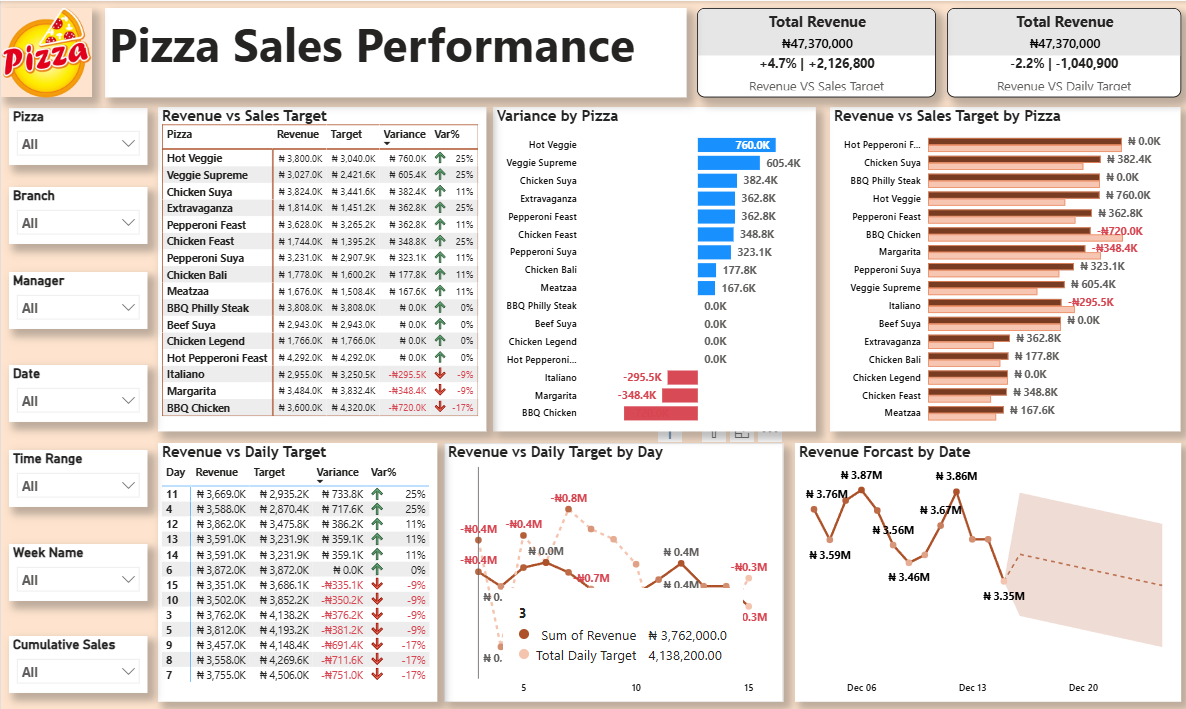

Layout of this report page (visuals, bound fields, positions):
{"tool":"powerbi","page":{"name":"Page 2","canvas":[1500,900],"ordinal":1},"visuals":[{"type":"lineChart","title":"Revenue vs Daily Target by Day","fields":{"Category":["Daily Target.Day.Variation.Date Hierarchy.Day"],"Y":["Sum(Sales Data.Revenue)","Daily Target.Total Daily Target"]},"box":[559.9,558.6,428.6,327],"z":0},{"type":"clusteredBarChart","title":"Revenue vs Sales Target by Pizza","fields":{"Y":["Sum(Sales Data.Revenue)","Sum(Sales Target.Sales Target)"],"Category":["Sales Target.Pizza"]},"box":[1047.5,134.5,443.4,410.3],"z":1000},{"type":"clusteredBarChart","fields":{"Category":["Sales Target.Pizza"],"Y":["Sales Data.Variance"]},"box":[622.3,134.5,408.1,410.3],"z":2000},{"type":"pivotTable","title":"Revenue vs Sales Target","fields":{"Values":["Sum(Sales Data.Revenue)","Sum(Sales Target.Sales Target)","Sales Data.Variance","Sales Target.Variance %"],"Rows":["Sales Target.Pizza"]},"box":[198.3,134.5,414.9,410.3],"z":3000},{"type":"pivotTable","title":"Revenue vs Daily Target","fields":{"Values":["Sum(Sales Data.Revenue)","Sum(Daily Target.Target)","Daily Target.Variance of Daily Target","Daily Target.Variance % of Daily Target"],"Rows":["Daily Target.Day.Variation.Date Hierarchy.Day"]},"box":[198.2,558.6,353,327],"z":4000},{"type":"lineChart","title":"Revenue Forcast by Date","fields":{"Category":["Sales Data.Date"],"Y":["Sum(Sales Data.Revenue)"]},"box":[1003.3,558.6,488,327],"z":5000},{"type":"card","title":"Total Revenue","fields":{"Values":["Sales Data.KPI Total Revenue VS Target"]},"box":[1195.3,8.7,296,112.7],"z":6000},{"type":"card","title":"Total Revenue","fields":{"Values":["Daily Target.KPI Total Revenue VS Sales Target"]},"box":[879.4,8.7,302.2,112.7],"z":7000},{"type":"slicer","title":"Pizza","fields":{"Values":["Sales Target.Pizza"]},"box":[9.9,135,174.6,71.8],"z":8000},{"type":"slicer","title":"Branch","fields":{"Values":["Branch Data.Branch"]},"box":[9.9,235.3,174.6,71.8],"z":9000},{"type":"slicer","title":"Manager","fields":{"Values":["Branch Data.Manager"]},"box":[9.9,341.9,174.6,71.8],"z":10000},{"type":"slicer","title":"Date","fields":{"Values":["Sales Data.Date"]},"box":[9.9,459.5,174.6,71.8],"z":11000},{"type":"textbox","box":[131.3,8.7,734.5,112.7],"z":12000},{"type":"slicer","title":"Time Range","fields":{"Values":["Sales Data.Time Range"]},"box":[9.9,567.3,174.6,71.8],"z":13000},{"type":"slicer","title":"Week Name","fields":{"Values":["Sales Data.Week Name"]},"box":[9.9,686.2,174.6,71.8],"z":14000},{"type":"slicer","title":"Cumulative Sales","fields":{"Values":["Sales Data.Cumulative Sales"]},"box":[9.9,802.6,174.6,71.8],"z":15000},{"type":"image","box":[0,8.7,115.2,112.7],"z":16000}]}

Visuals, with their boxes in screenshot pixels (x1, y1, x2, y2), scaled from the page's 1500x900 canvas onto the 1186x709 screenshot:
"Revenue vs Daily Target by Day" lineChart: <bbox>443, 440, 782, 698</bbox>
"Revenue vs Sales Target by Pizza" clusteredBarChart: <bbox>828, 106, 1179, 429</bbox>
clusteredBarChart - Sales Target.Pizza x Sales Data.Variance: <bbox>492, 106, 815, 429</bbox>
"Revenue vs Sales Target" pivotTable: <bbox>157, 106, 485, 429</bbox>
"Revenue vs Daily Target" pivotTable: <bbox>157, 440, 436, 698</bbox>
"Revenue Forcast by Date" lineChart: <bbox>793, 440, 1179, 698</bbox>
"Total Revenue" card: <bbox>945, 7, 1179, 96</bbox>
"Total Revenue" card: <bbox>695, 7, 934, 96</bbox>
"Pizza" slicer: <bbox>8, 106, 146, 163</bbox>
"Branch" slicer: <bbox>8, 185, 146, 242</bbox>
"Manager" slicer: <bbox>8, 269, 146, 326</bbox>
"Date" slicer: <bbox>8, 362, 146, 419</bbox>
textbox: <bbox>104, 7, 685, 96</bbox>
"Time Range" slicer: <bbox>8, 447, 146, 503</bbox>
"Week Name" slicer: <bbox>8, 541, 146, 597</bbox>
"Cumulative Sales" slicer: <bbox>8, 632, 146, 689</bbox>
image: <bbox>0, 7, 91, 96</bbox>
